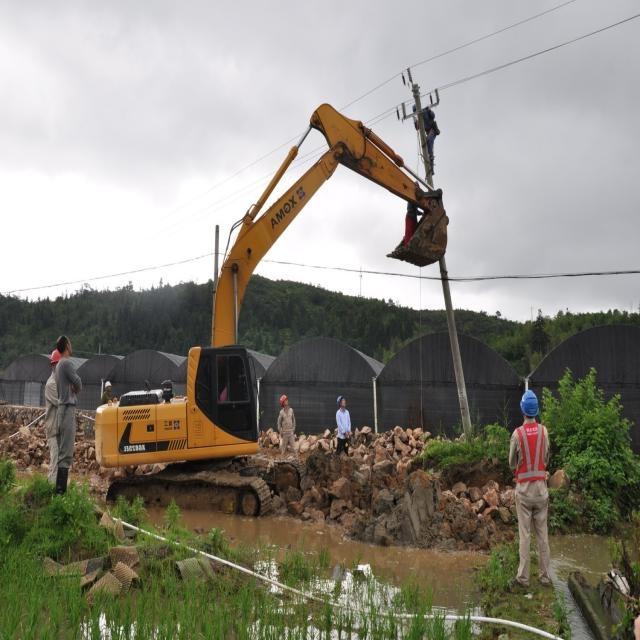Con_Casco: (521, 390, 538, 420)
Con_Chaleco: (514, 421, 546, 489)
Sin_Casco_Mascarrilla: (56, 335, 73, 360)
Sin_Chaleco: (55, 359, 77, 403)
